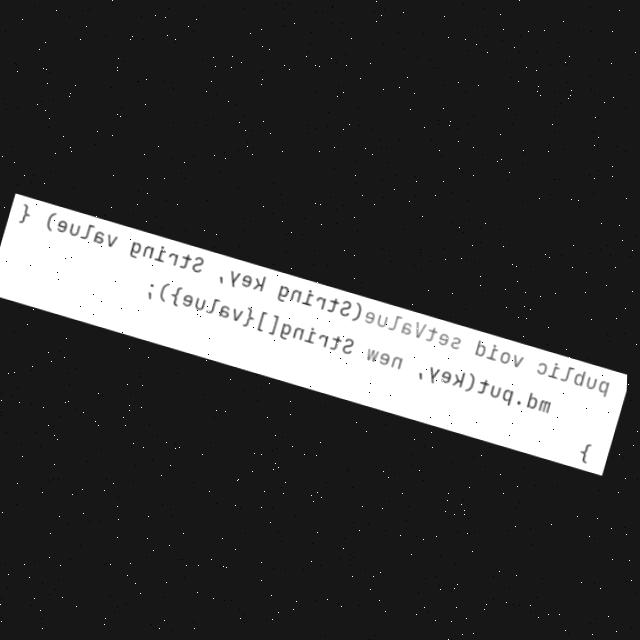code_screen: (0, 193, 627, 475)
